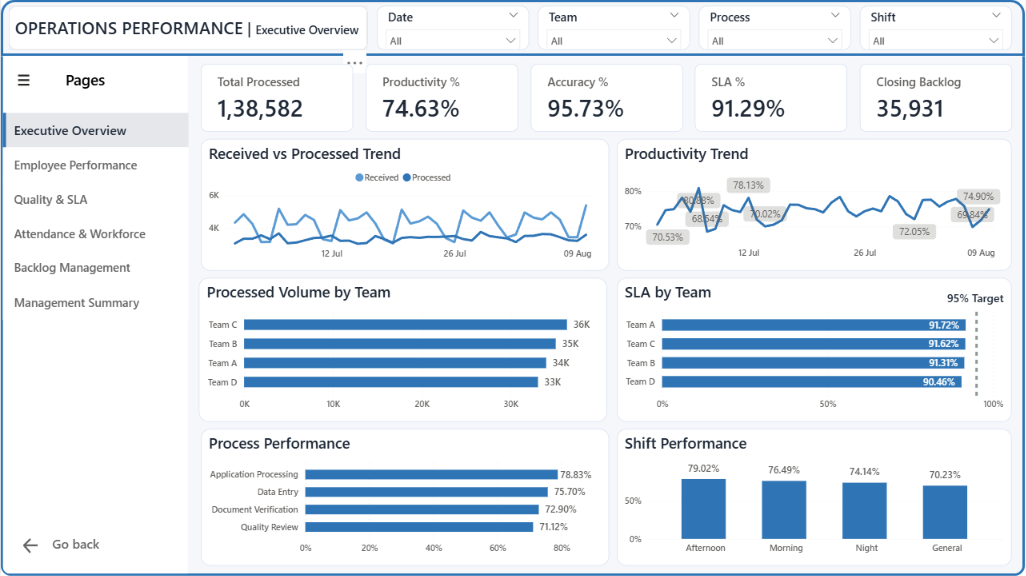

Layout of this report page (visuals, bound fields, positions):
{"tool":"powerbi","page":{"name":"Executive Overview","canvas":[1280,720],"ordinal":0},"visuals":[{"type":"shape","box":[0,0,1280,720],"z":0},{"type":"shape","box":[0,0,1280,70],"z":1000},{"type":"textbox","box":[10,7.5,448.8,55],"z":2000},{"type":"cardVisual","fields":{"Data":["Measure.Total Processed"]},"box":[250,80,190,85],"z":3000},{"type":"shape","box":[2.5,70,231.2,647.5],"z":4000},{"type":"cardVisual","fields":{"Data":["Measure.SLA %"]},"box":[867.8,80,190,85],"z":5000},{"type":"cardVisual","fields":{"Data":["Measure.Accuracy %"]},"box":[661.9,80,190,85],"z":6000},{"type":"cardVisual","fields":{"Data":["Measure.Productivity %"]},"box":[455.9,80,190,85],"z":7000},{"type":"cardVisual","fields":{"Data":["Measure.Closing Backlog"]},"box":[1073.8,80,190,85],"z":8000},{"type":"lineChart","title":"Received vs Processed Trend","fields":{"Y":["Sum(fact_daily_performance.Received)","Sum(fact_daily_performance.Processed)"],"Category":["DateTable.Date"]},"box":[250,173.8,510,165],"z":9000},{"type":"lineChart","title":"Productivity Trend","fields":{"Y":["Measure.Productivity %"],"Category":["DateTable.Date"]},"box":[770,173.8,493.8,165],"z":10000},{"type":"clusteredBarChart","title":"Processed Volume by Team","fields":{"Category":["dim_team.Team"],"Y":["Sum(dim_team.Processed)"]},"box":[247.5,347.5,510,180],"z":11000},{"type":"clusteredBarChart","title":"SLA by Team","fields":{"Category":["dim_team.Team"],"Y":["Measure.SLA %"]},"box":[770,347.5,493.8,180],"z":12000},{"type":"clusteredBarChart","title":"Process Performance","fields":{"Category":["dim_process.Process"],"Y":["Measure.Productivity %"]},"box":[250,536.2,510,171],"z":13000},{"type":"clusteredColumnChart","title":"Shift Performance","fields":{"Category":["dim_shift.Shift"],"Y":["Measure.Productivity %"]},"box":[770,536.2,493.8,171],"z":14000},{"type":"slicer","fields":{"Values":["DateTable.Date"]},"box":[470,7.5,190,55],"z":15000},{"type":"slicer","fields":{"Values":["dim_team.Team"]},"box":[671.2,7.5,190,55],"z":16000},{"type":"slicer","fields":{"Values":["dim_process.Process"]},"box":[872.5,7.5,190,55],"z":17000},{"type":"slicer","fields":{"Values":["dim_shift.Shift"]},"box":[1073.8,7.5,190,55],"z":18000},{"type":"pageNavigator","box":[2,141.2,232.5,261.2],"z":19000},{"type":"actionButton","box":[24,669,37.5,27.5],"z":20000},{"type":"textbox","box":[51.2,663.8,85,41.2],"z":21000},{"type":"textbox","box":[10,82,167.5,41.2],"z":22000},{"type":"textbox","box":[1172.5,358,91.2,30],"z":23000}]}

Visuals, with their boxes in screenshot pixels (x1, y1, x2, y2), scaled from the page's 1280x720 canvas onto the 1026x576 screenshot:
shape: region(0, 0, 1025, 575)
shape: region(0, 0, 1025, 56)
textbox: region(8, 6, 368, 50)
cardVisual - Measure.Total Processed: region(200, 64, 353, 132)
shape: region(2, 56, 187, 574)
cardVisual - Measure.SLA %: region(696, 64, 848, 132)
cardVisual - Measure.Accuracy %: region(531, 64, 683, 132)
cardVisual - Measure.Productivity %: region(365, 64, 518, 132)
cardVisual - Measure.Closing Backlog: region(861, 64, 1013, 132)
"Received vs Processed Trend" lineChart: region(200, 139, 609, 271)
"Productivity Trend" lineChart: region(617, 139, 1013, 271)
"Processed Volume by Team" clusteredBarChart: region(198, 278, 607, 422)
"SLA by Team" clusteredBarChart: region(617, 278, 1013, 422)
"Process Performance" clusteredBarChart: region(200, 429, 609, 566)
"Shift Performance" clusteredColumnChart: region(617, 429, 1013, 566)
slicer - DateTable.Date: region(377, 6, 529, 50)
slicer - dim_team.Team: region(538, 6, 690, 50)
slicer - dim_process.Process: region(699, 6, 852, 50)
slicer - dim_shift.Shift: region(861, 6, 1013, 50)
pageNavigator: region(2, 113, 188, 322)
actionButton: region(19, 535, 49, 557)
textbox: region(41, 531, 109, 564)
textbox: region(8, 66, 142, 99)
textbox: region(940, 286, 1013, 310)
